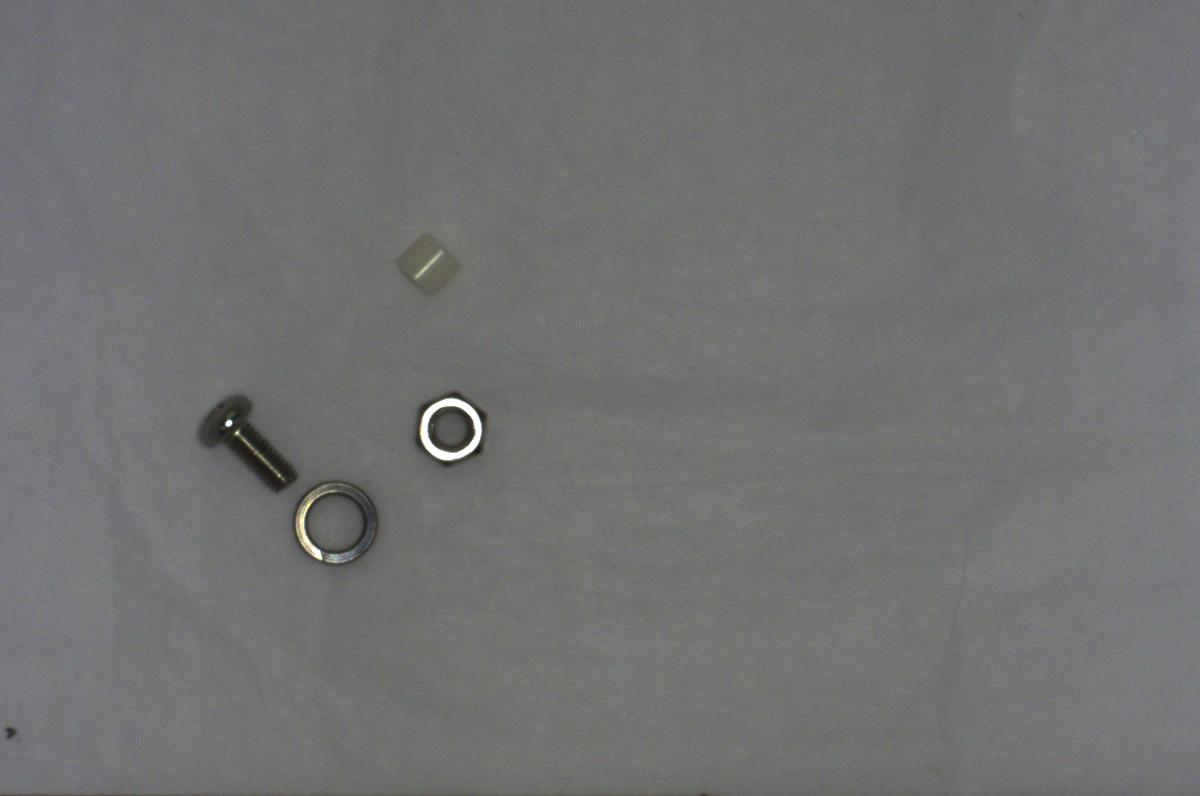Hexagon nut: (402, 385, 493, 474)
Plastic cushion pillar: (386, 227, 470, 298)
Round head screw: (199, 392, 293, 486)
Spring washer: (280, 473, 385, 572)
